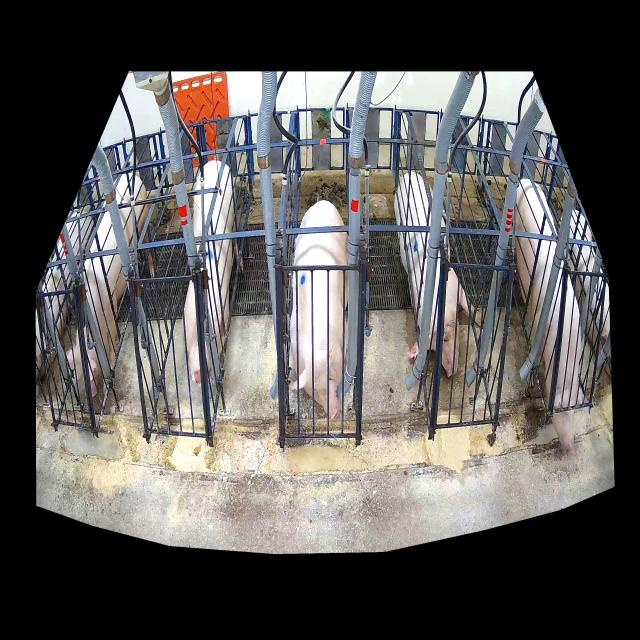pig: (514, 179, 587, 457), (66, 173, 155, 396), (395, 172, 482, 378), (289, 201, 348, 422), (184, 160, 239, 386)
